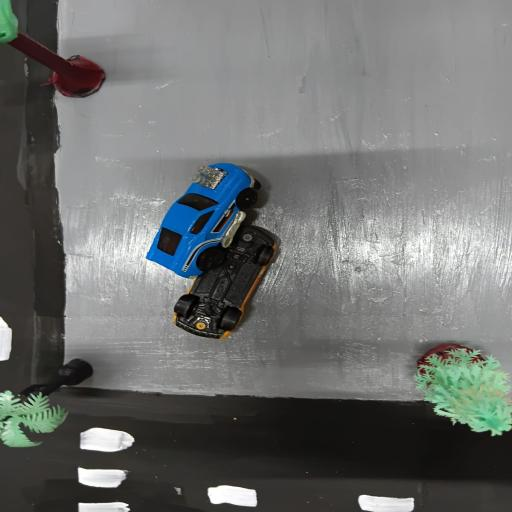car crash: (170, 218, 285, 341), (145, 160, 261, 275)
